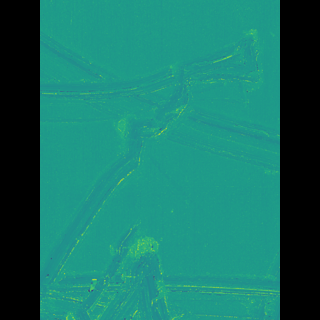Loch: (69, 22, 242, 320)
